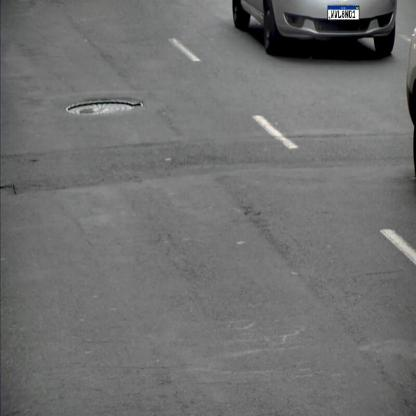PlacaM: (328, 6, 359, 20)
